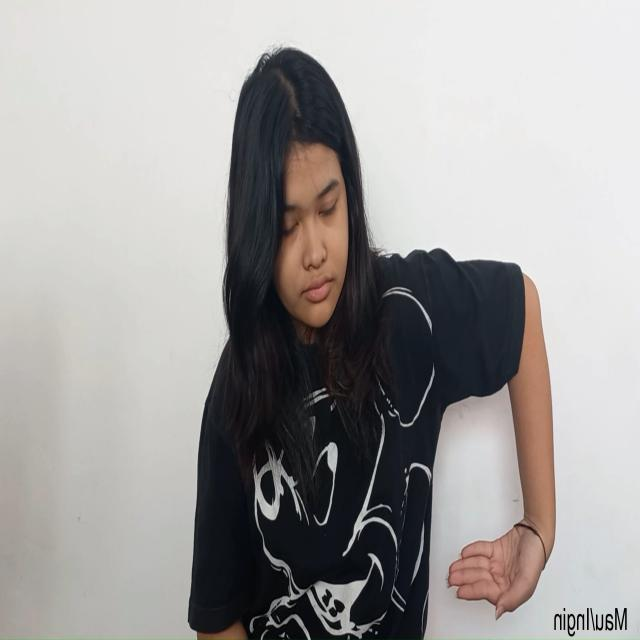Mau-Ingin -BISINDO-: (442, 518, 548, 624)
